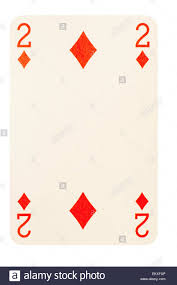two of diamonds: (12, 16, 158, 242)
